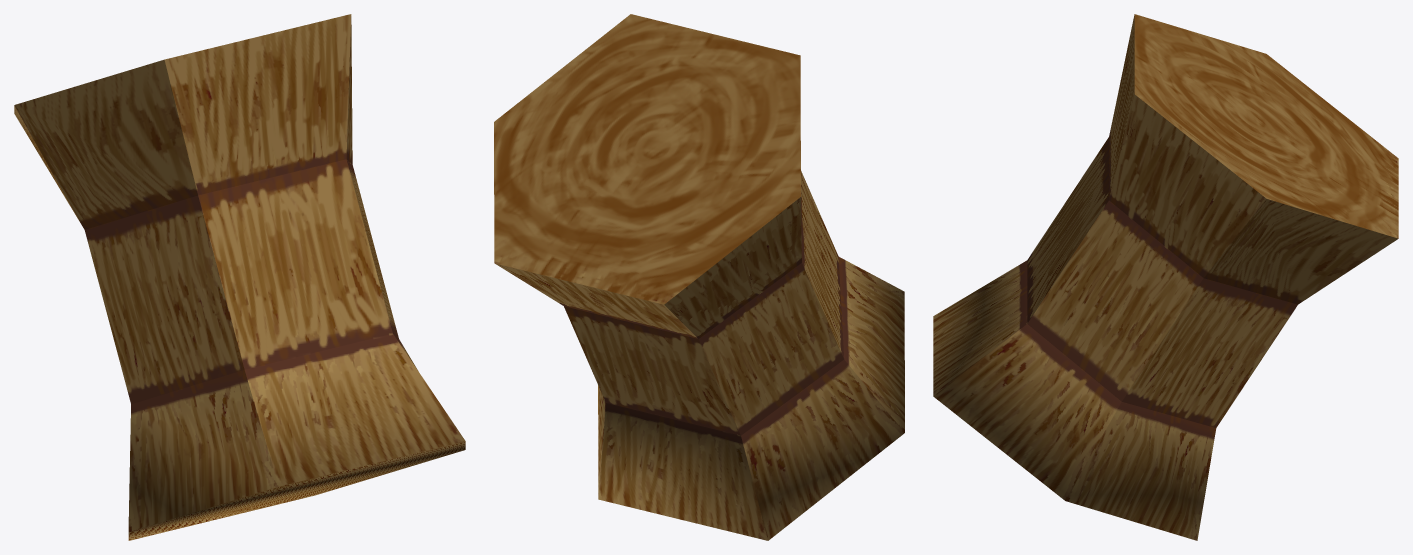
File: Bundle.fbx
3 renders of one model, left to right at view 1: azimuth 30°, elevation 25°; view 2: azimuth 150°, elevation 25°; view 3: azimuth 270°, elevation 25°, orthographic. The views are drawn at different scales.
Parts seen in each view (by area): view 1: Cube.002; view 2: Cube.002; view 3: Cube.002.
Boxes of the visible parts, left/top/right/bottom form: Cube.002: left=14, top=14, right=465, bottom=540; Cube.002: left=494, top=14, right=904, bottom=540; Cube.002: left=933, top=14, right=1398, bottom=540.
Bounding box in the file's own units: 102 × 147 × 138.
